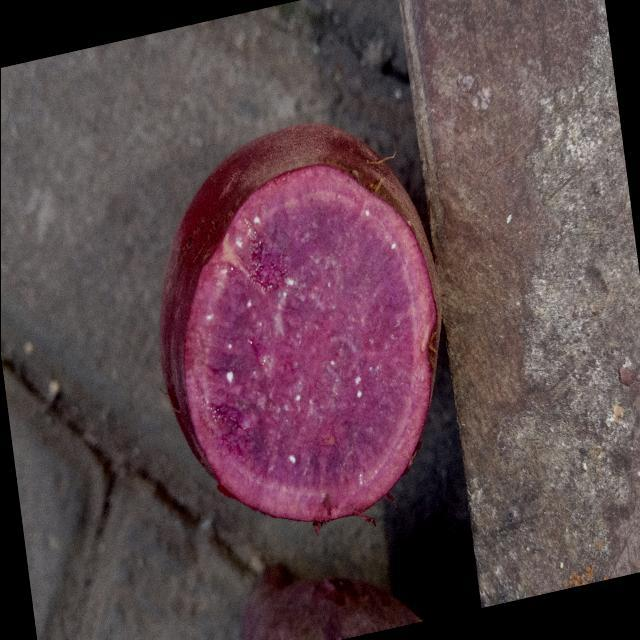Healthy Sweet Potato: (184, 165, 435, 522)
